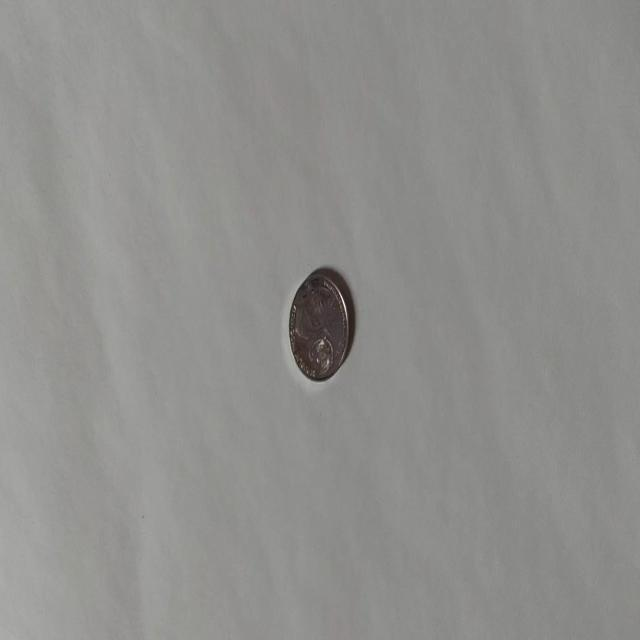dua ratus rupiah: (288, 268, 350, 382)
